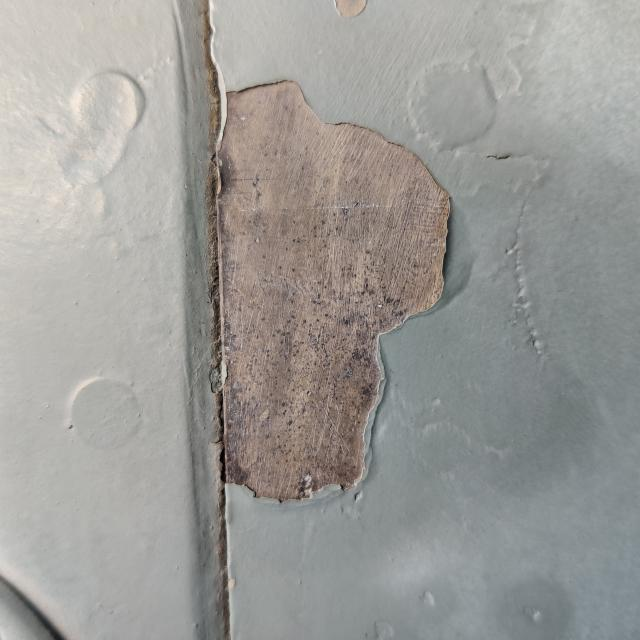paint-off: (130, 47, 493, 552)
